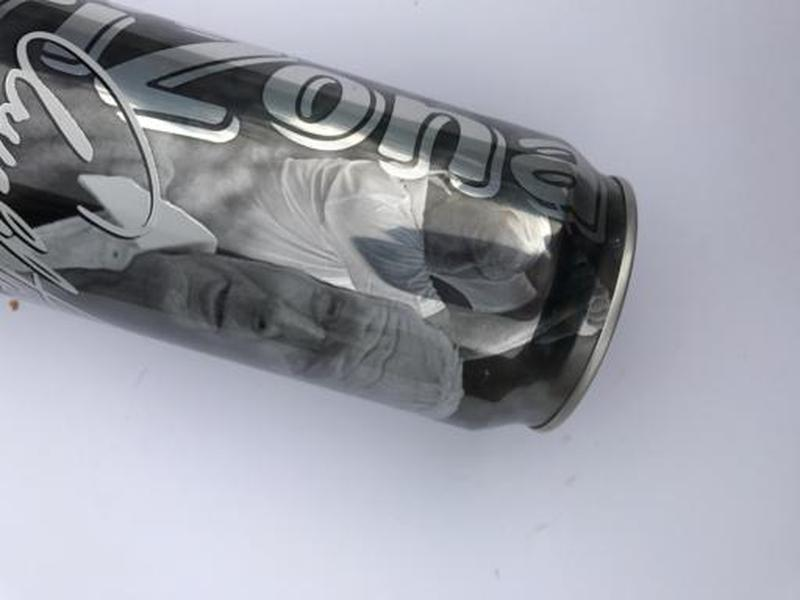can: (1, 1, 644, 439)
